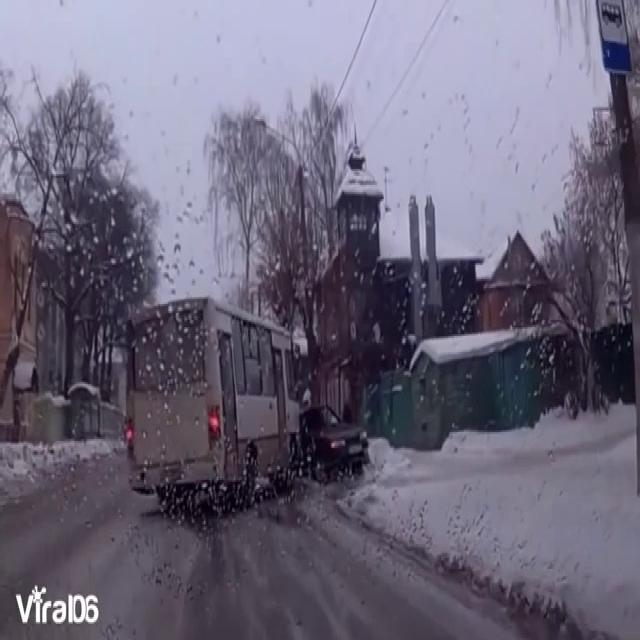moderate: (117, 280, 369, 510)
